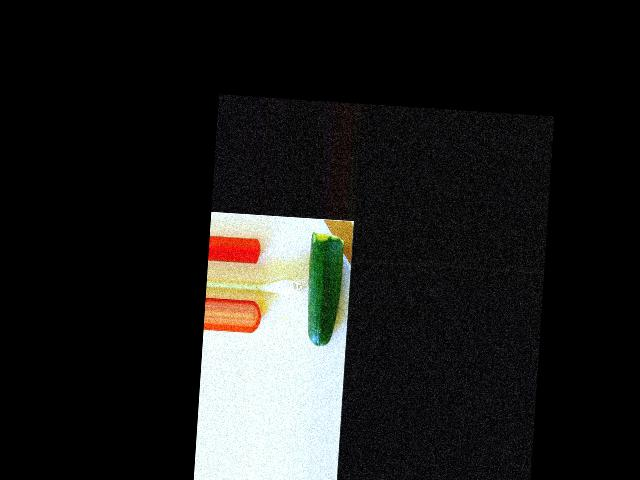cucumber: (304, 232, 345, 348)
